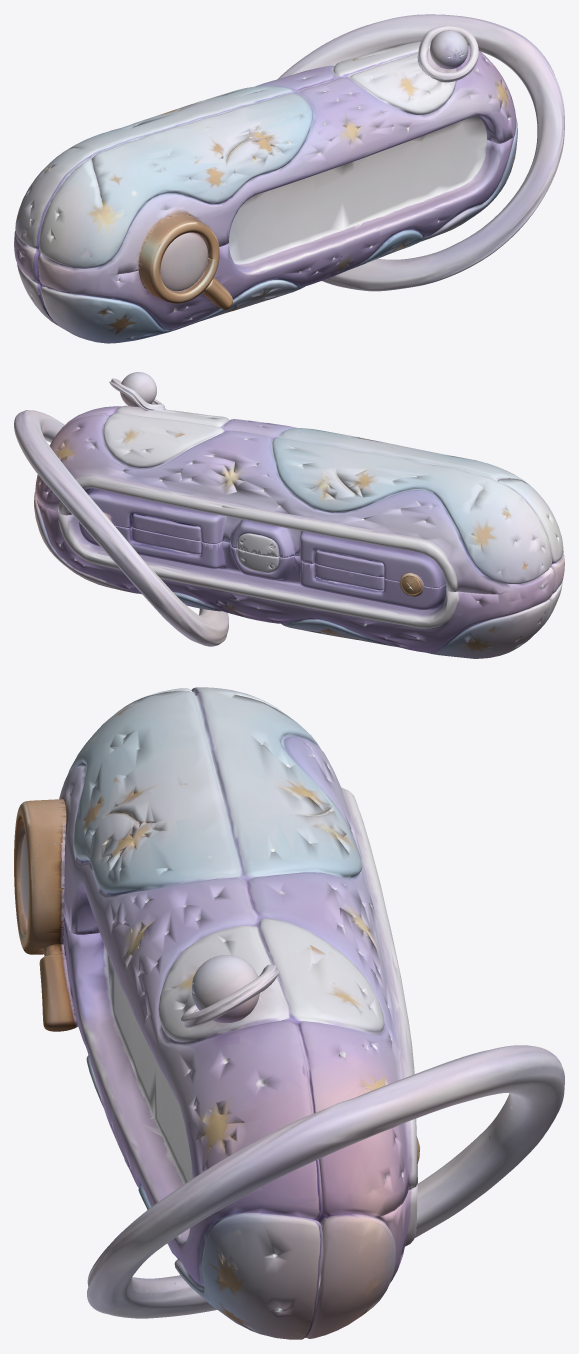
File: bar.glb
3 views of the same model, one above another, from view 1: azimuth 30°, elevation 25°; view 2: azimuth 150°, elevation 25°; view 3: azimuth 270°, elevation 25° (orthographic). The views are drawn at different scales.
Visible parts, largest first — view 1: tripo_part_0, tripo_part_1, tripo_part_3, tripo_part_4, tripo_part_7; view 2: tripo_part_0, tripo_part_1, tripo_part_5, tripo_part_2, tripo_part_6, tripo_part_7, tripo_part_4, tripo_part_9; view 3: tripo_part_0, tripo_part_1, tripo_part_3, tripo_part_7, tripo_part_4.
Part boxes in pixels (x1,y1,x2,y2): tripo_part_0: [14, 40, 517, 343]; tripo_part_1: [278, 14, 564, 291]; tripo_part_3: [138, 214, 232, 309]; tripo_part_4: [417, 26, 478, 82]; tripo_part_7: [430, 30, 468, 69]; tripo_part_0: [34, 405, 564, 658]; tripo_part_1: [14, 410, 228, 646]; tripo_part_5: [223, 519, 384, 602]; tripo_part_2: [78, 488, 225, 568]; tripo_part_6: [377, 545, 446, 609]; tripo_part_7: [120, 372, 156, 407]; tripo_part_4: [109, 378, 165, 411]; tripo_part_9: [399, 573, 423, 596]; tripo_part_0: [59, 687, 417, 1339]; tripo_part_1: [87, 1045, 564, 1318]; tripo_part_3: [14, 799, 78, 1031]; tripo_part_7: [191, 955, 259, 1023]; tripo_part_4: [181, 964, 279, 1028].
Bounding box in the file's own units: 1 × 0.4232 × 0.5031.
10 materials, 10 textured.
